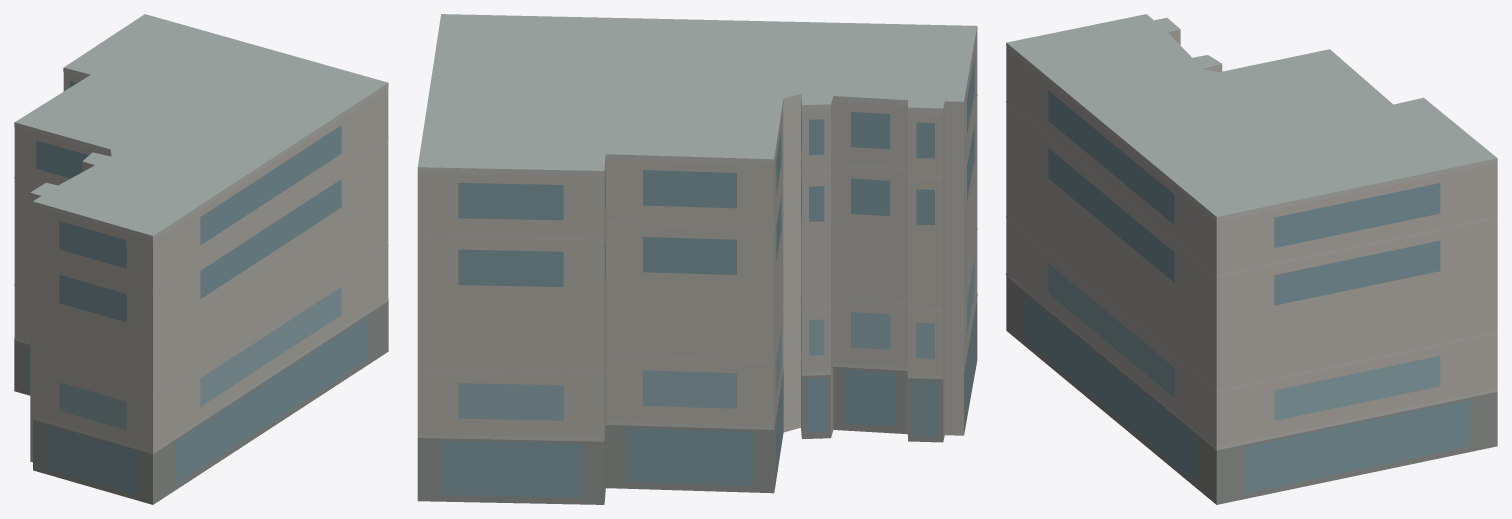
Rendered from survey-upis-32932339.glb.
3 views of the same model, side by side, from view 1: azimuth 30°, elevation 25°; view 2: azimuth 150°, elevation 25°; view 3: azimuth 270°, elevation 25° (orthographic). The views are drawn at different scales.
Parts seen in each view (by area): view 1: survey-upis-32932339.tmp; view 2: survey-upis-32932339.tmp; view 3: survey-upis-32932339.tmp.
Boxes of the visible parts, box(x1,y1,x2,y2) form: survey-upis-32932339.tmp: box(14, 14, 388, 504); survey-upis-32932339.tmp: box(417, 14, 977, 504); survey-upis-32932339.tmp: box(1006, 14, 1497, 504).
Bounding box in the file's own units: 23.06 × 15.25 × 23.61.
